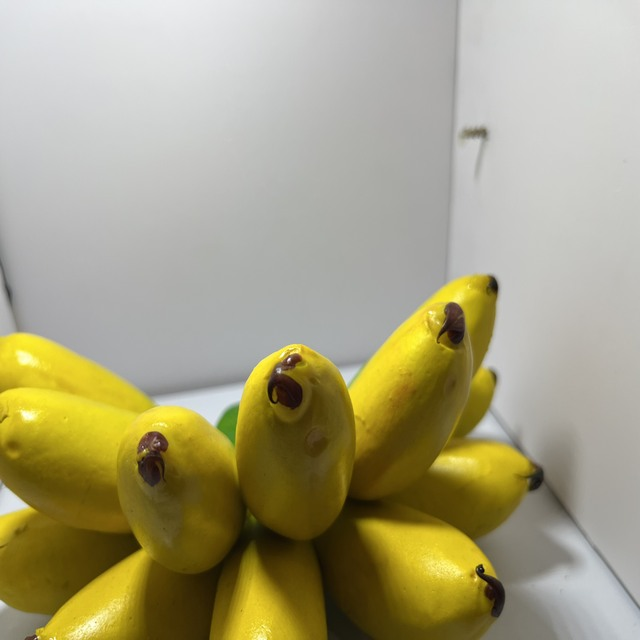Chuoi: (0, 263, 547, 640)
